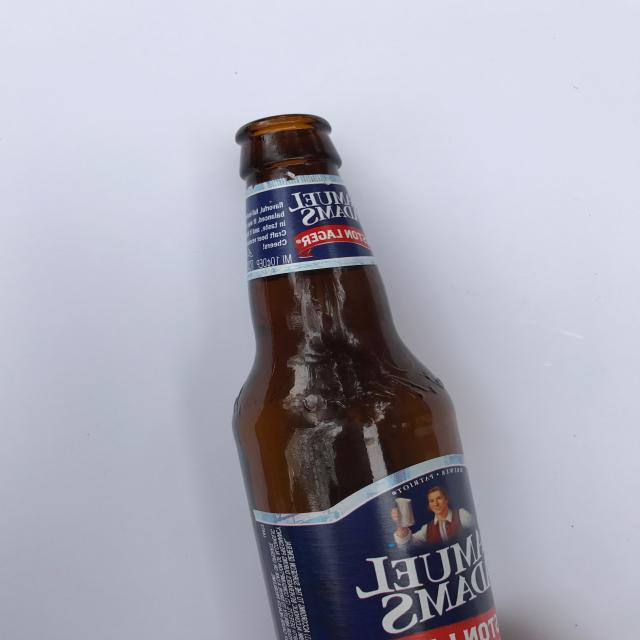glass: (232, 113, 504, 640)
